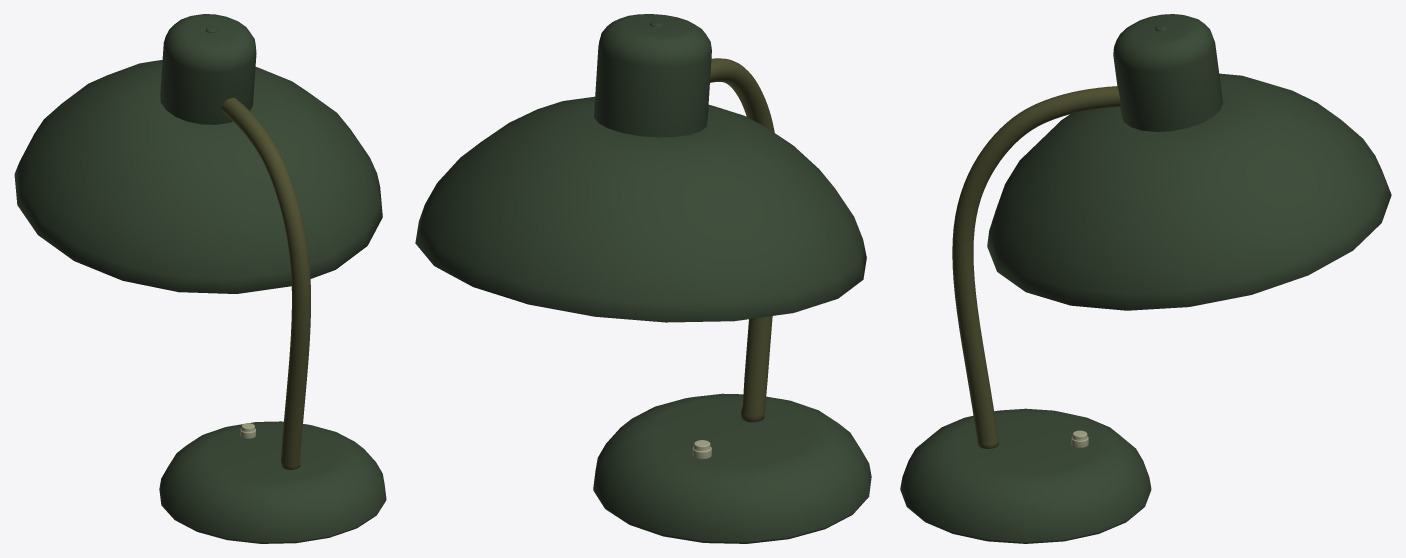
File: AP_Lamp02_HB.fbx
The picture shows the model from 3 angles, left to right: view 1: azimuth 30°, elevation 25°; view 2: azimuth 150°, elevation 25°; view 3: azimuth 270°, elevation 25°; orthographic projection. The views are drawn at different scales.
Visible parts, largest first — view 1: pCylinder15, pCylinder17, pCylinder18, pCylinder16; view 2: pCylinder15, pCylinder17, pCylinder18, pCylinder16; view 3: pCylinder15, pCylinder17, pCylinder18, pCylinder16.
Boxes of the visible parts, x1,y1,x2,y2 form: pCylinder15: (14,60,382,293); pCylinder17: (159,421,386,543); pCylinder18: (160,14,256,124); pCylinder16: (221,97,310,469); pCylinder15: (415,96,866,322); pCylinder17: (593,393,871,543); pCylinder18: (594,14,711,137); pCylinder16: (710,58,774,422); pCylinder15: (987,73,1391,310); pCylinder17: (900,408,1151,543); pCylinder18: (1113,14,1222,131); pCylinder16: (952,86,1120,448).
Size of the model in its own units: 0.5802 by 0.7311 by 0.698.
